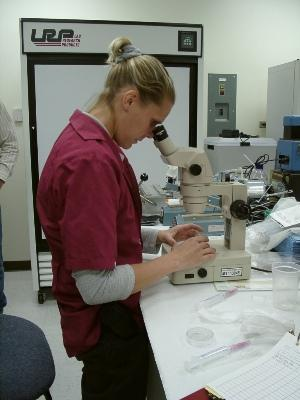person: (36, 37, 217, 400)
